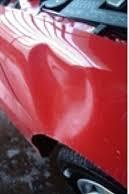dent: (24, 40, 101, 148)
